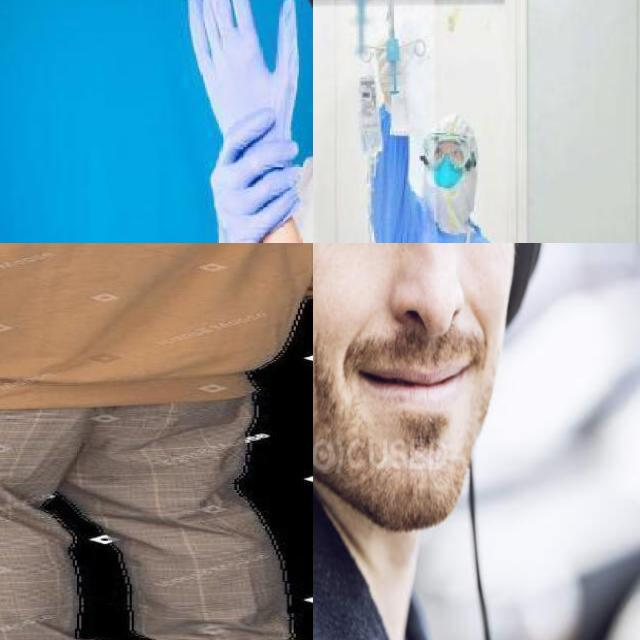Ear-protection: (313, 243, 546, 530)
face_mask: (433, 142, 468, 195)
glasses: (417, 130, 480, 175)
hand_glove: (188, 0, 302, 138), (208, 106, 302, 243)
hand_noglove: (373, 38, 405, 105)
head_nohelmet: (422, 113, 479, 152)
person: (0, 243, 313, 640), (336, 51, 565, 243), (157, 0, 313, 243)
